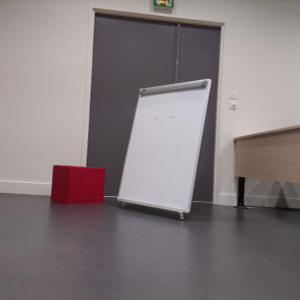big: (115, 78, 213, 211)
medium: (51, 165, 104, 204)
